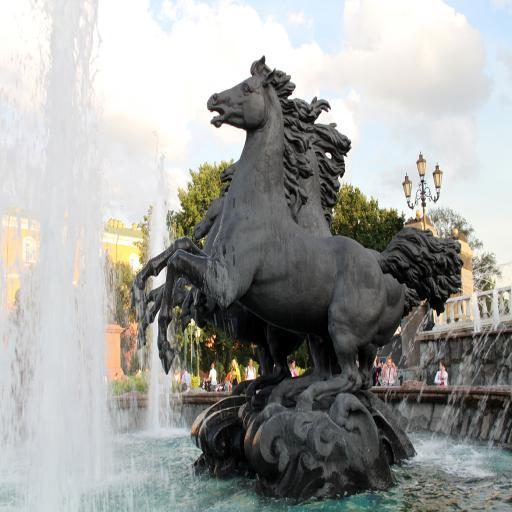Horse: (128, 56, 462, 413)
